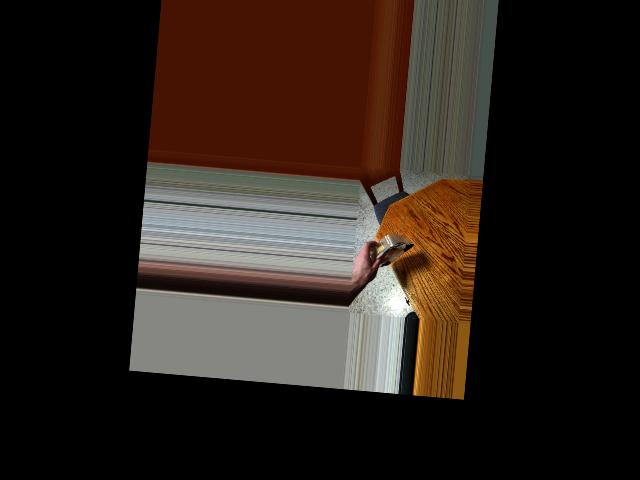cheese: (366, 221, 410, 275)
